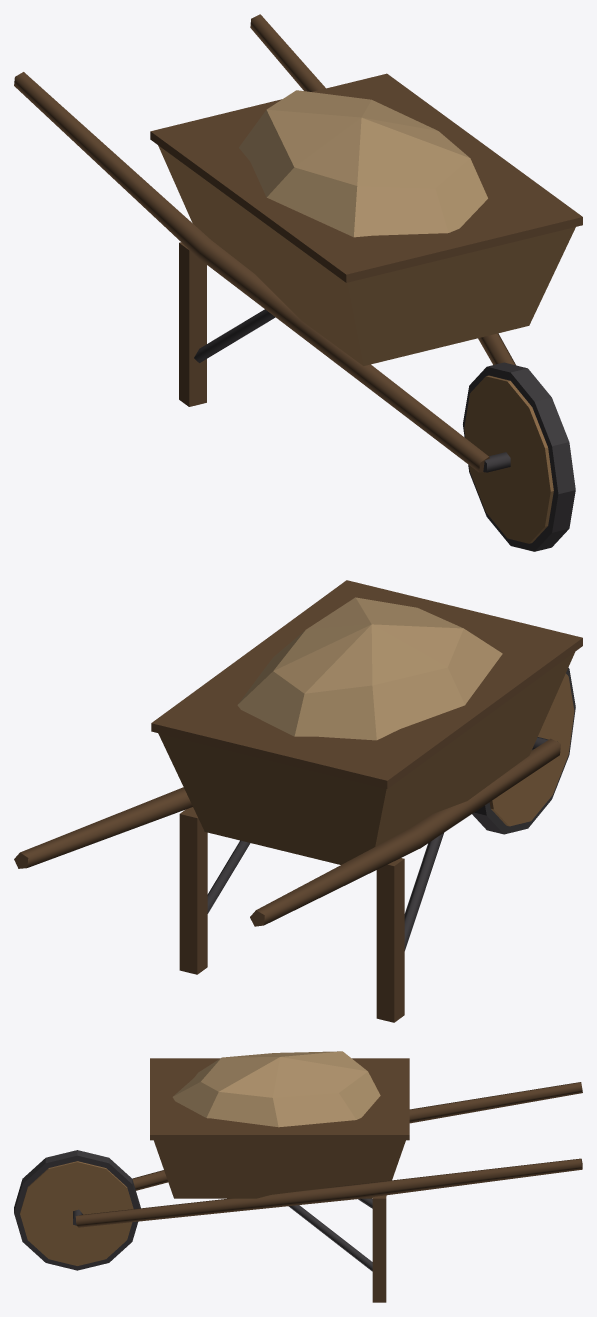
Rendered from wheelbarrow.glb.
3 views of the same model, one above another, from view 1: azimuth 30°, elevation 25°; view 2: azimuth 150°, elevation 25°; view 3: azimuth 270°, elevation 25° (orthographic). The views are drawn at different scales.
Parts seen in each view (by area): view 1: wheelbarrow; view 2: wheelbarrow; view 3: wheelbarrow.
Part boxes in pixels (x1,y1,x2,y2): wheelbarrow: (14, 14, 582, 551); wheelbarrow: (14, 580, 582, 1022); wheelbarrow: (14, 1051, 582, 1302).
Bounding box in the file's own units: 0.6362 × 0.7645 × 1.88.
